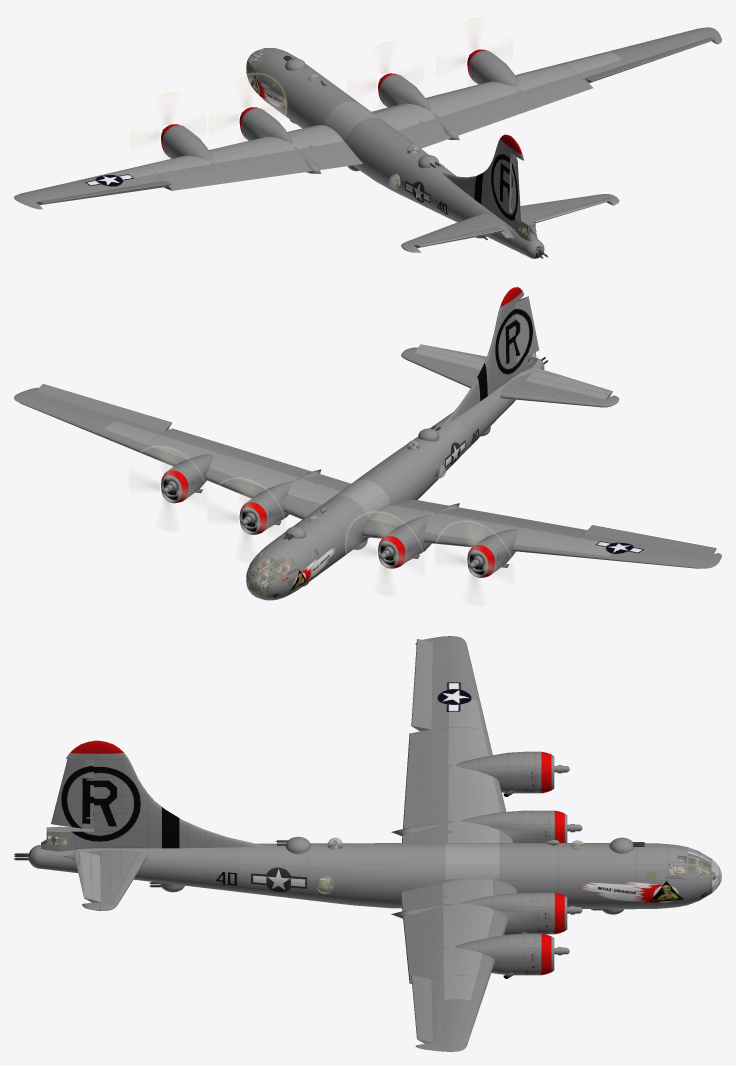
File: b29_flyt_6bg_npa.glb
3 views of the same model, one above another, from view 1: azimuth 30°, elevation 25°; view 2: azimuth 150°, elevation 25°; view 3: azimuth 270°, elevation 25° (orthographic). The views are drawn at different scales.
Parts seen in each view (by area): view 1: WingR, WingL, fuse2, tail_vert, fuse3, tail_horz, fuse1, fuse4, prop2, prop1, engine4, prop3 (+9 smaller); view 2: WingR, WingL, fuse2, tail_vert, tail_horz, fuse1, fuse3, prop3, prop1, prop2, tail_elevator, prop4 (+9 smaller); view 3: WingL, fuse2, WingR, tail_vert, fuse1, fuse3, fuse4, engine4, engine2, engine1, engine3, tail_rudder (+6 smaller).
Part boxes in pixels (bbox=[...]): WingR: bbox=[371, 27, 721, 148]; WingL: bbox=[14, 125, 362, 209]; fuse2: bbox=[282, 72, 418, 189]; tail_vert: bbox=[442, 134, 537, 241]; fuse3: bbox=[383, 145, 456, 214]; tail_horz: bbox=[401, 194, 619, 252]; fuse1: bbox=[246, 48, 319, 117]; fuse4: bbox=[436, 181, 538, 256]; prop2: bbox=[434, 15, 514, 92]; prop1: bbox=[128, 90, 207, 165]; engine4: bbox=[378, 73, 459, 140]; prop3: bbox=[207, 73, 286, 147]; WingR: bbox=[14, 387, 350, 519]; WingL: bbox=[362, 499, 721, 568]; fuse2: bbox=[292, 452, 427, 570]; tail_vert: bbox=[442, 287, 537, 426]; tail_horz: bbox=[401, 347, 619, 407]; fuse1: bbox=[246, 525, 329, 600]; fuse3: bbox=[393, 417, 470, 492]; prop3: bbox=[345, 511, 425, 597]; prop1: bbox=[434, 520, 514, 606]; prop2: bbox=[128, 446, 207, 531]; tail_elevator: bbox=[414, 344, 612, 399]; prop4: bbox=[207, 477, 286, 563]; WingL: bbox=[402, 636, 513, 842]; fuse2: bbox=[353, 843, 597, 908]; WingR: bbox=[400, 878, 517, 1051]; tail_vert: bbox=[41, 740, 265, 851]; fuse1: bbox=[597, 843, 712, 909]; fuse3: bbox=[238, 843, 353, 905]; fuse4: bbox=[40, 845, 238, 891]; engine4: bbox=[391, 892, 567, 935]; engine2: bbox=[454, 933, 554, 975]; engine1: bbox=[456, 751, 554, 793]; engine3: bbox=[391, 810, 567, 842]; tail_rudder: bbox=[51, 759, 93, 828].
Bounding box in the file's own units: 141 × 28.65 × 102.
35 materials, 24 textured.
